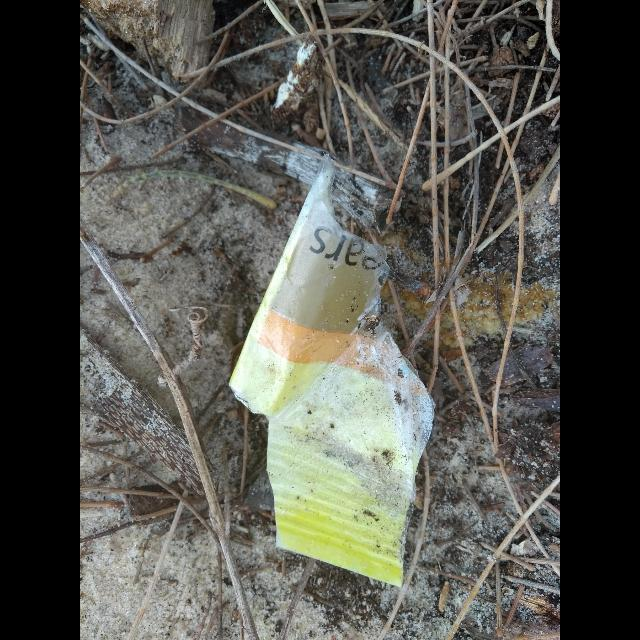Plastic: (230, 155, 432, 588)
